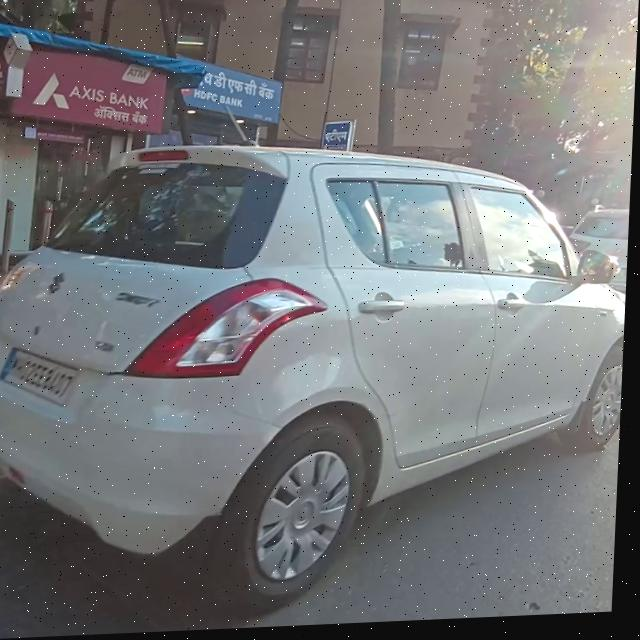plate: (1, 345, 83, 409)
